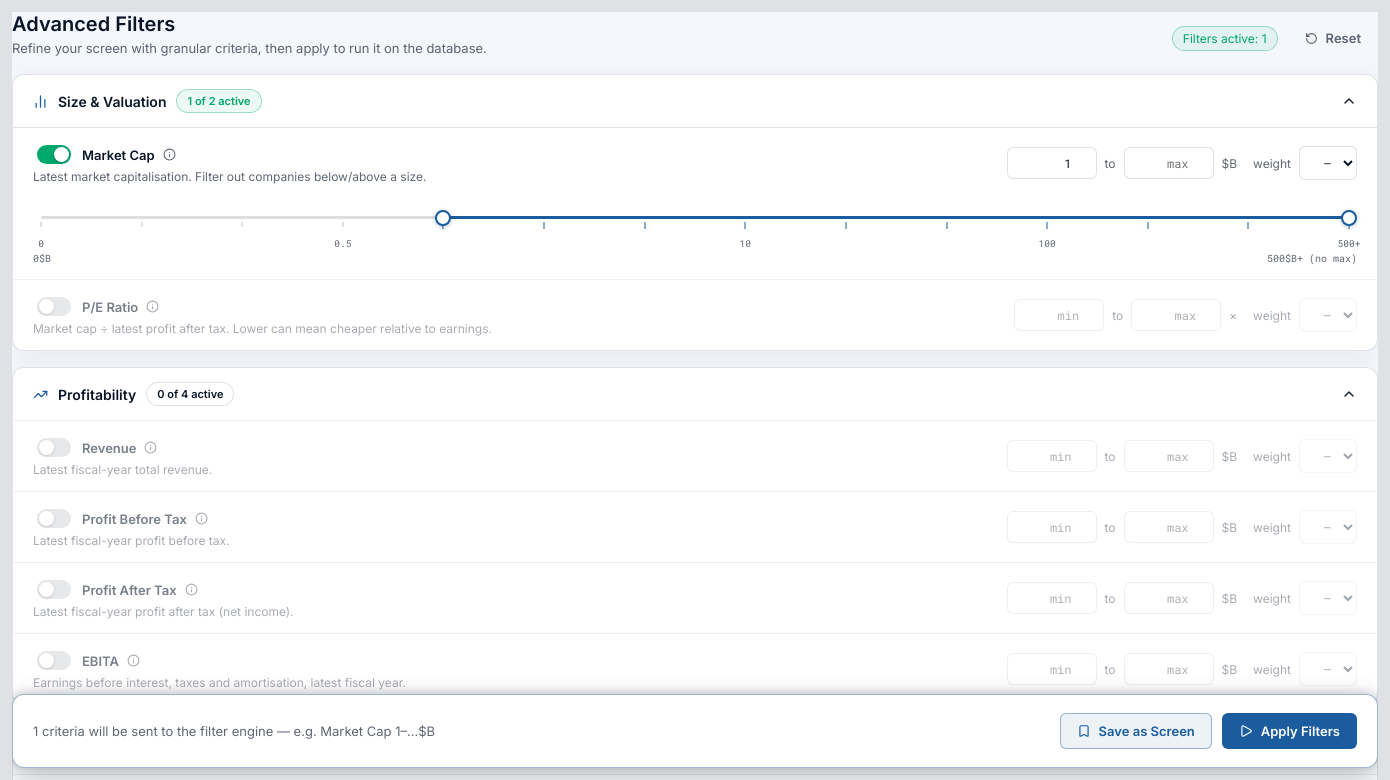
Test: Advanced Filters - Save as Screen › keeps a logged-out user's screen in this browser
The image size is (1390, 780).
Click the button "Save as Screen": x=1136, y=731 top-left (1060, 713), bottom-right (1212, 749)
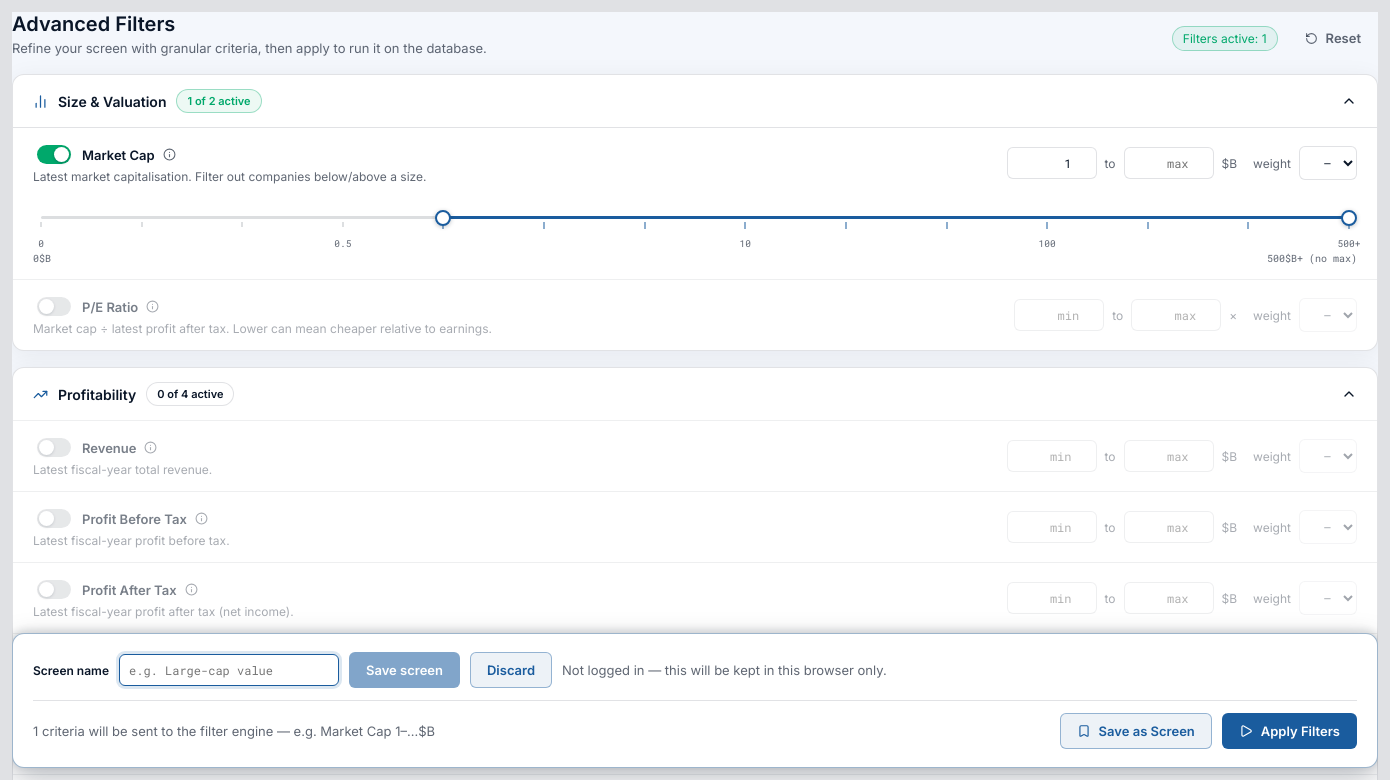
In the field labelled "Screen name": x=229, y=670 top-left (119, 654), bottom-right (339, 686), type "Draft"
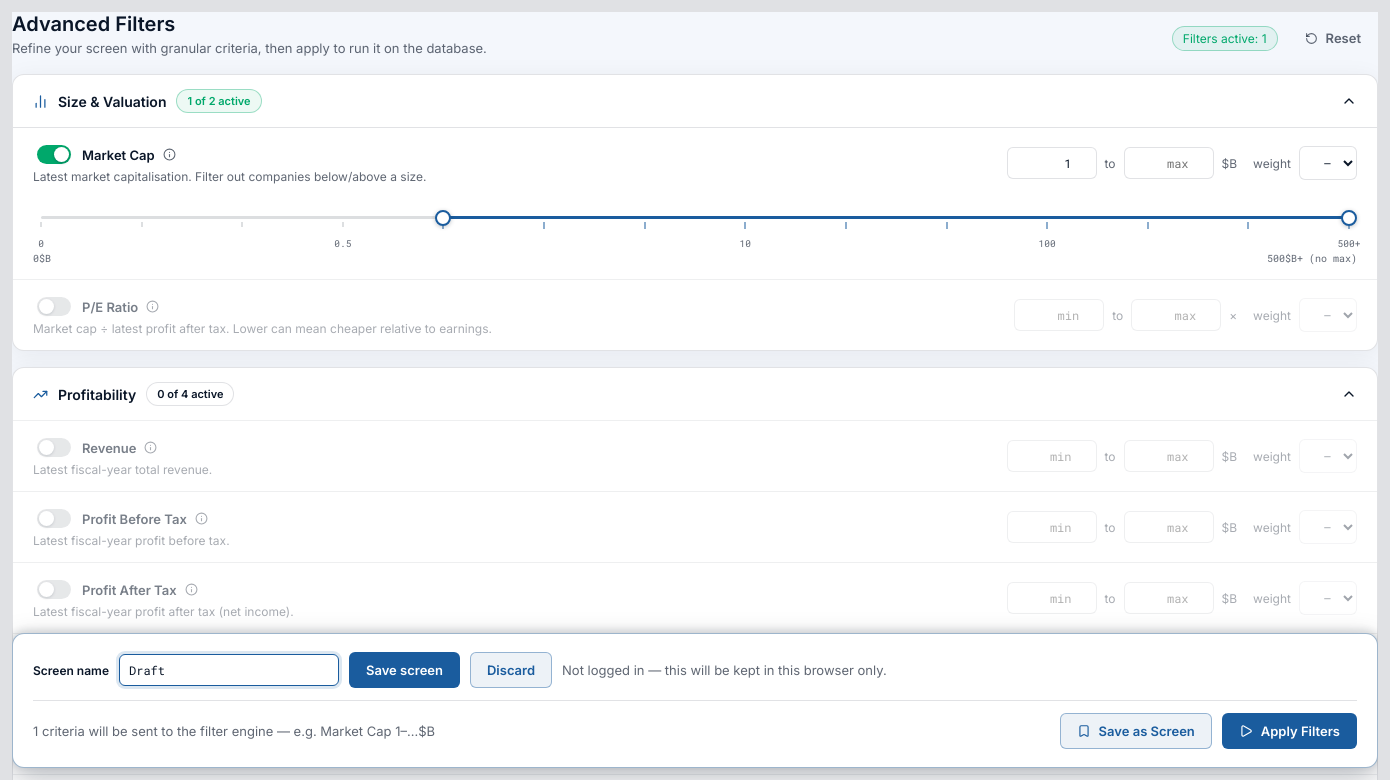
Click the button "Save screen": x=404, y=670 top-left (349, 652), bottom-right (460, 688)
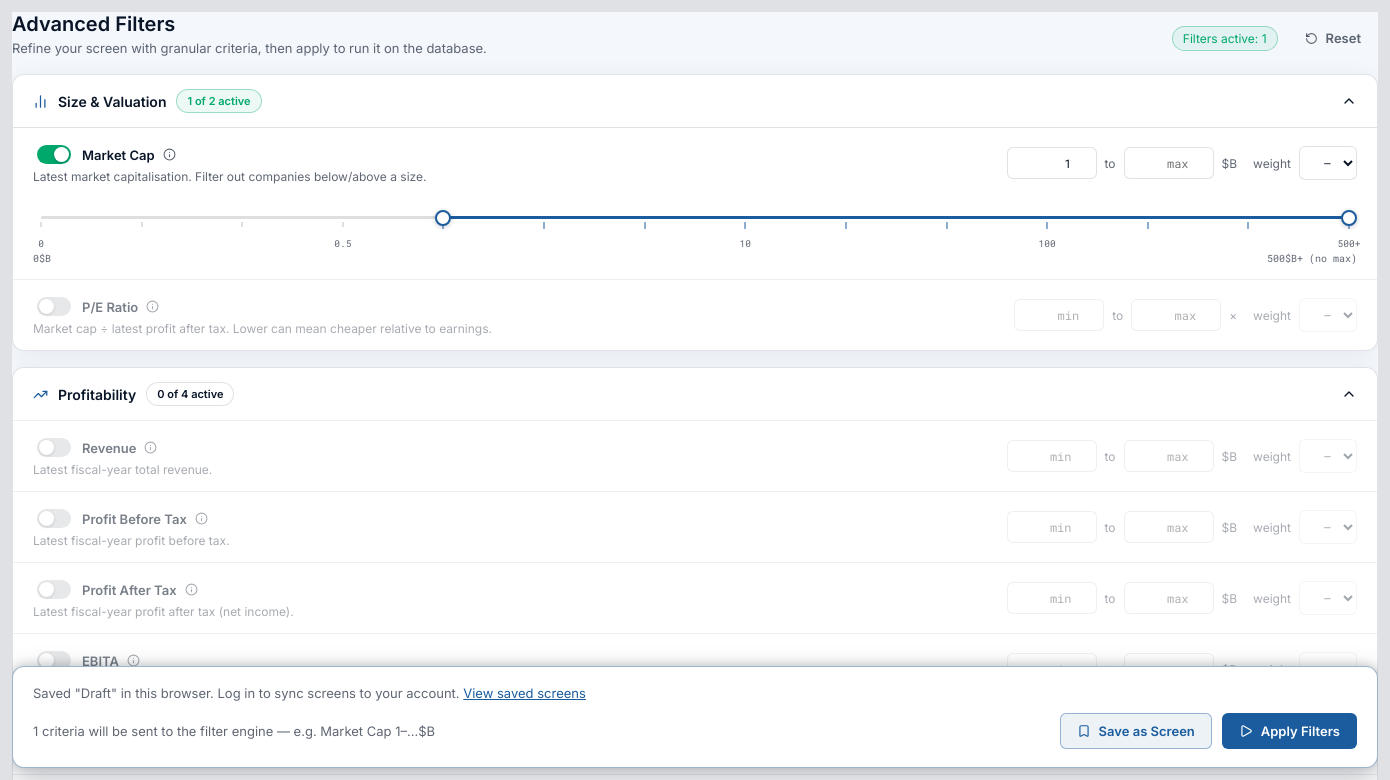
Expected: the text "Saved \"Draft\" in this browser" is shown, top-left (33, 685), bottom-right (460, 701)
